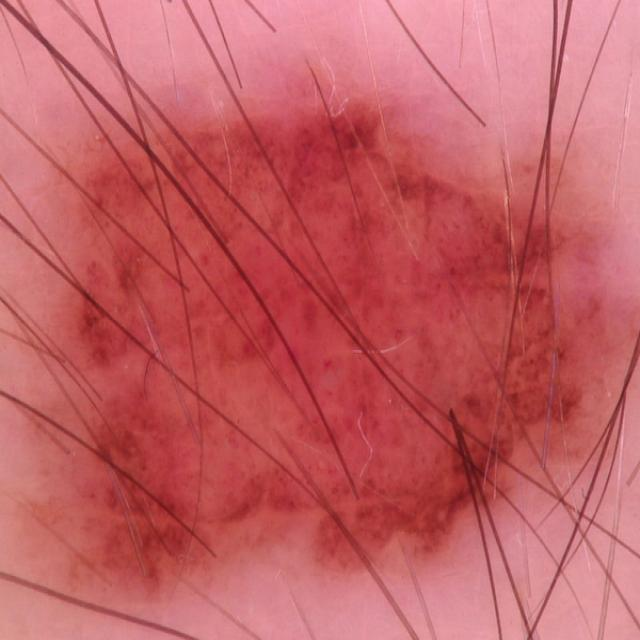NV: (4, 75, 638, 610)
